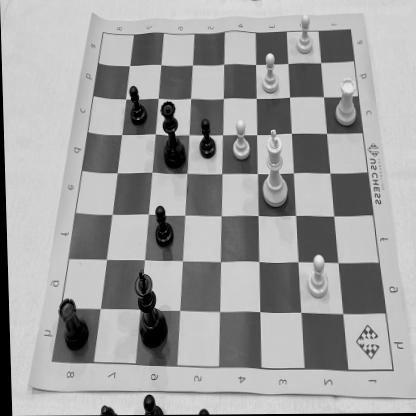black-king: (132, 265, 168, 352)
black-pawn: (150, 203, 175, 249), (195, 116, 217, 162), (126, 82, 148, 126)
black-queen: (157, 99, 188, 172)
black-rook: (55, 296, 88, 354)
white-king: (257, 126, 291, 210)
white-pawn: (304, 252, 330, 302), (258, 51, 282, 97), (292, 13, 317, 57), (230, 118, 252, 162)
white-rook: (331, 76, 360, 127)
